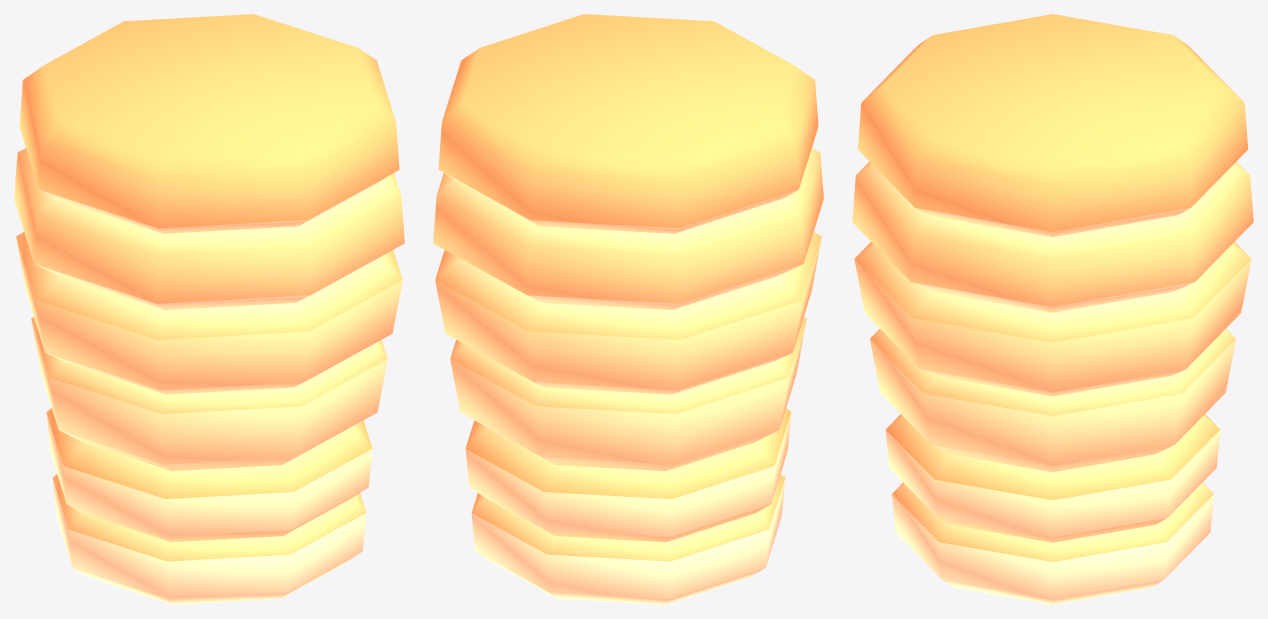
File: wood_grip_101_004.glb
3 views of the same model, side by side, from view 1: azimuth 30°, elevation 25°; view 2: azimuth 150°, elevation 25°; view 3: azimuth 270°, elevation 25° (orthographic).
Visible parts, largest first — view 1: wood_grip_101.004; view 2: wood_grip_101.004; view 3: wood_grip_101.004.
Part boxes in pixels (bbox=[...]): wood_grip_101.004: bbox=[14, 14, 404, 604]; wood_grip_101.004: bbox=[433, 14, 823, 604]; wood_grip_101.004: bbox=[852, 14, 1253, 604].
Size of the model in its own units: 2.37 by 3 by 2.37.
Materials: 1 (1 with a texture image).
